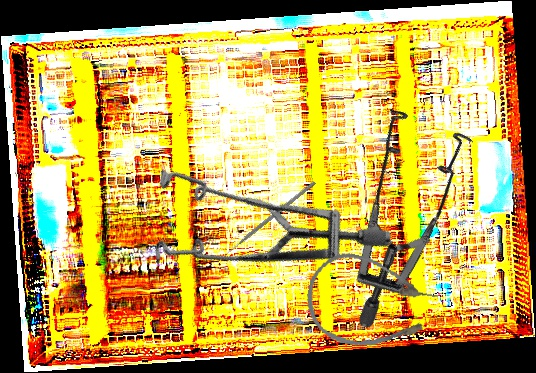Cannula: (299, 246, 443, 361)
Pusher: (220, 180, 316, 260)
Speculum: (113, 94, 397, 370), (265, 79, 524, 333)
